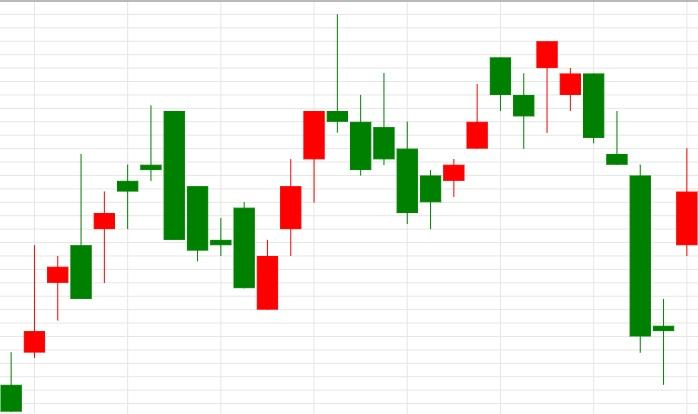hanging_man_fall: (442, 41, 558, 196)
morning_star_rise: (582, 73, 698, 384)
three_white_soldiers_rise: (140, 104, 325, 311)
